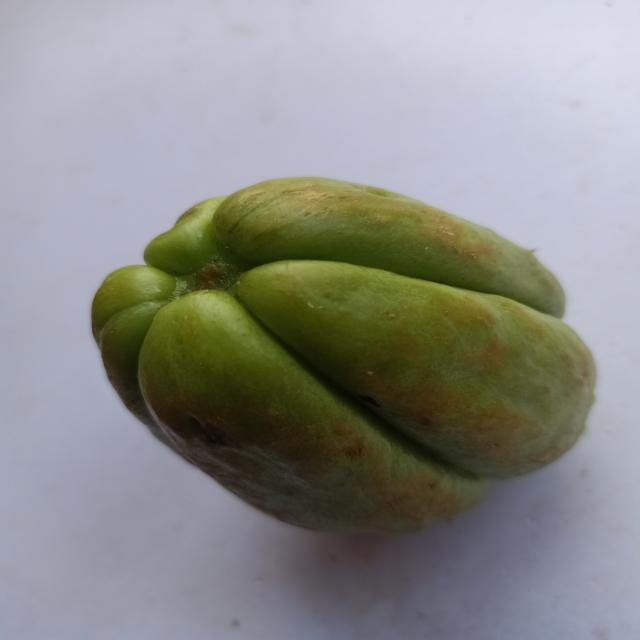Chayote: (73, 152, 616, 560)
